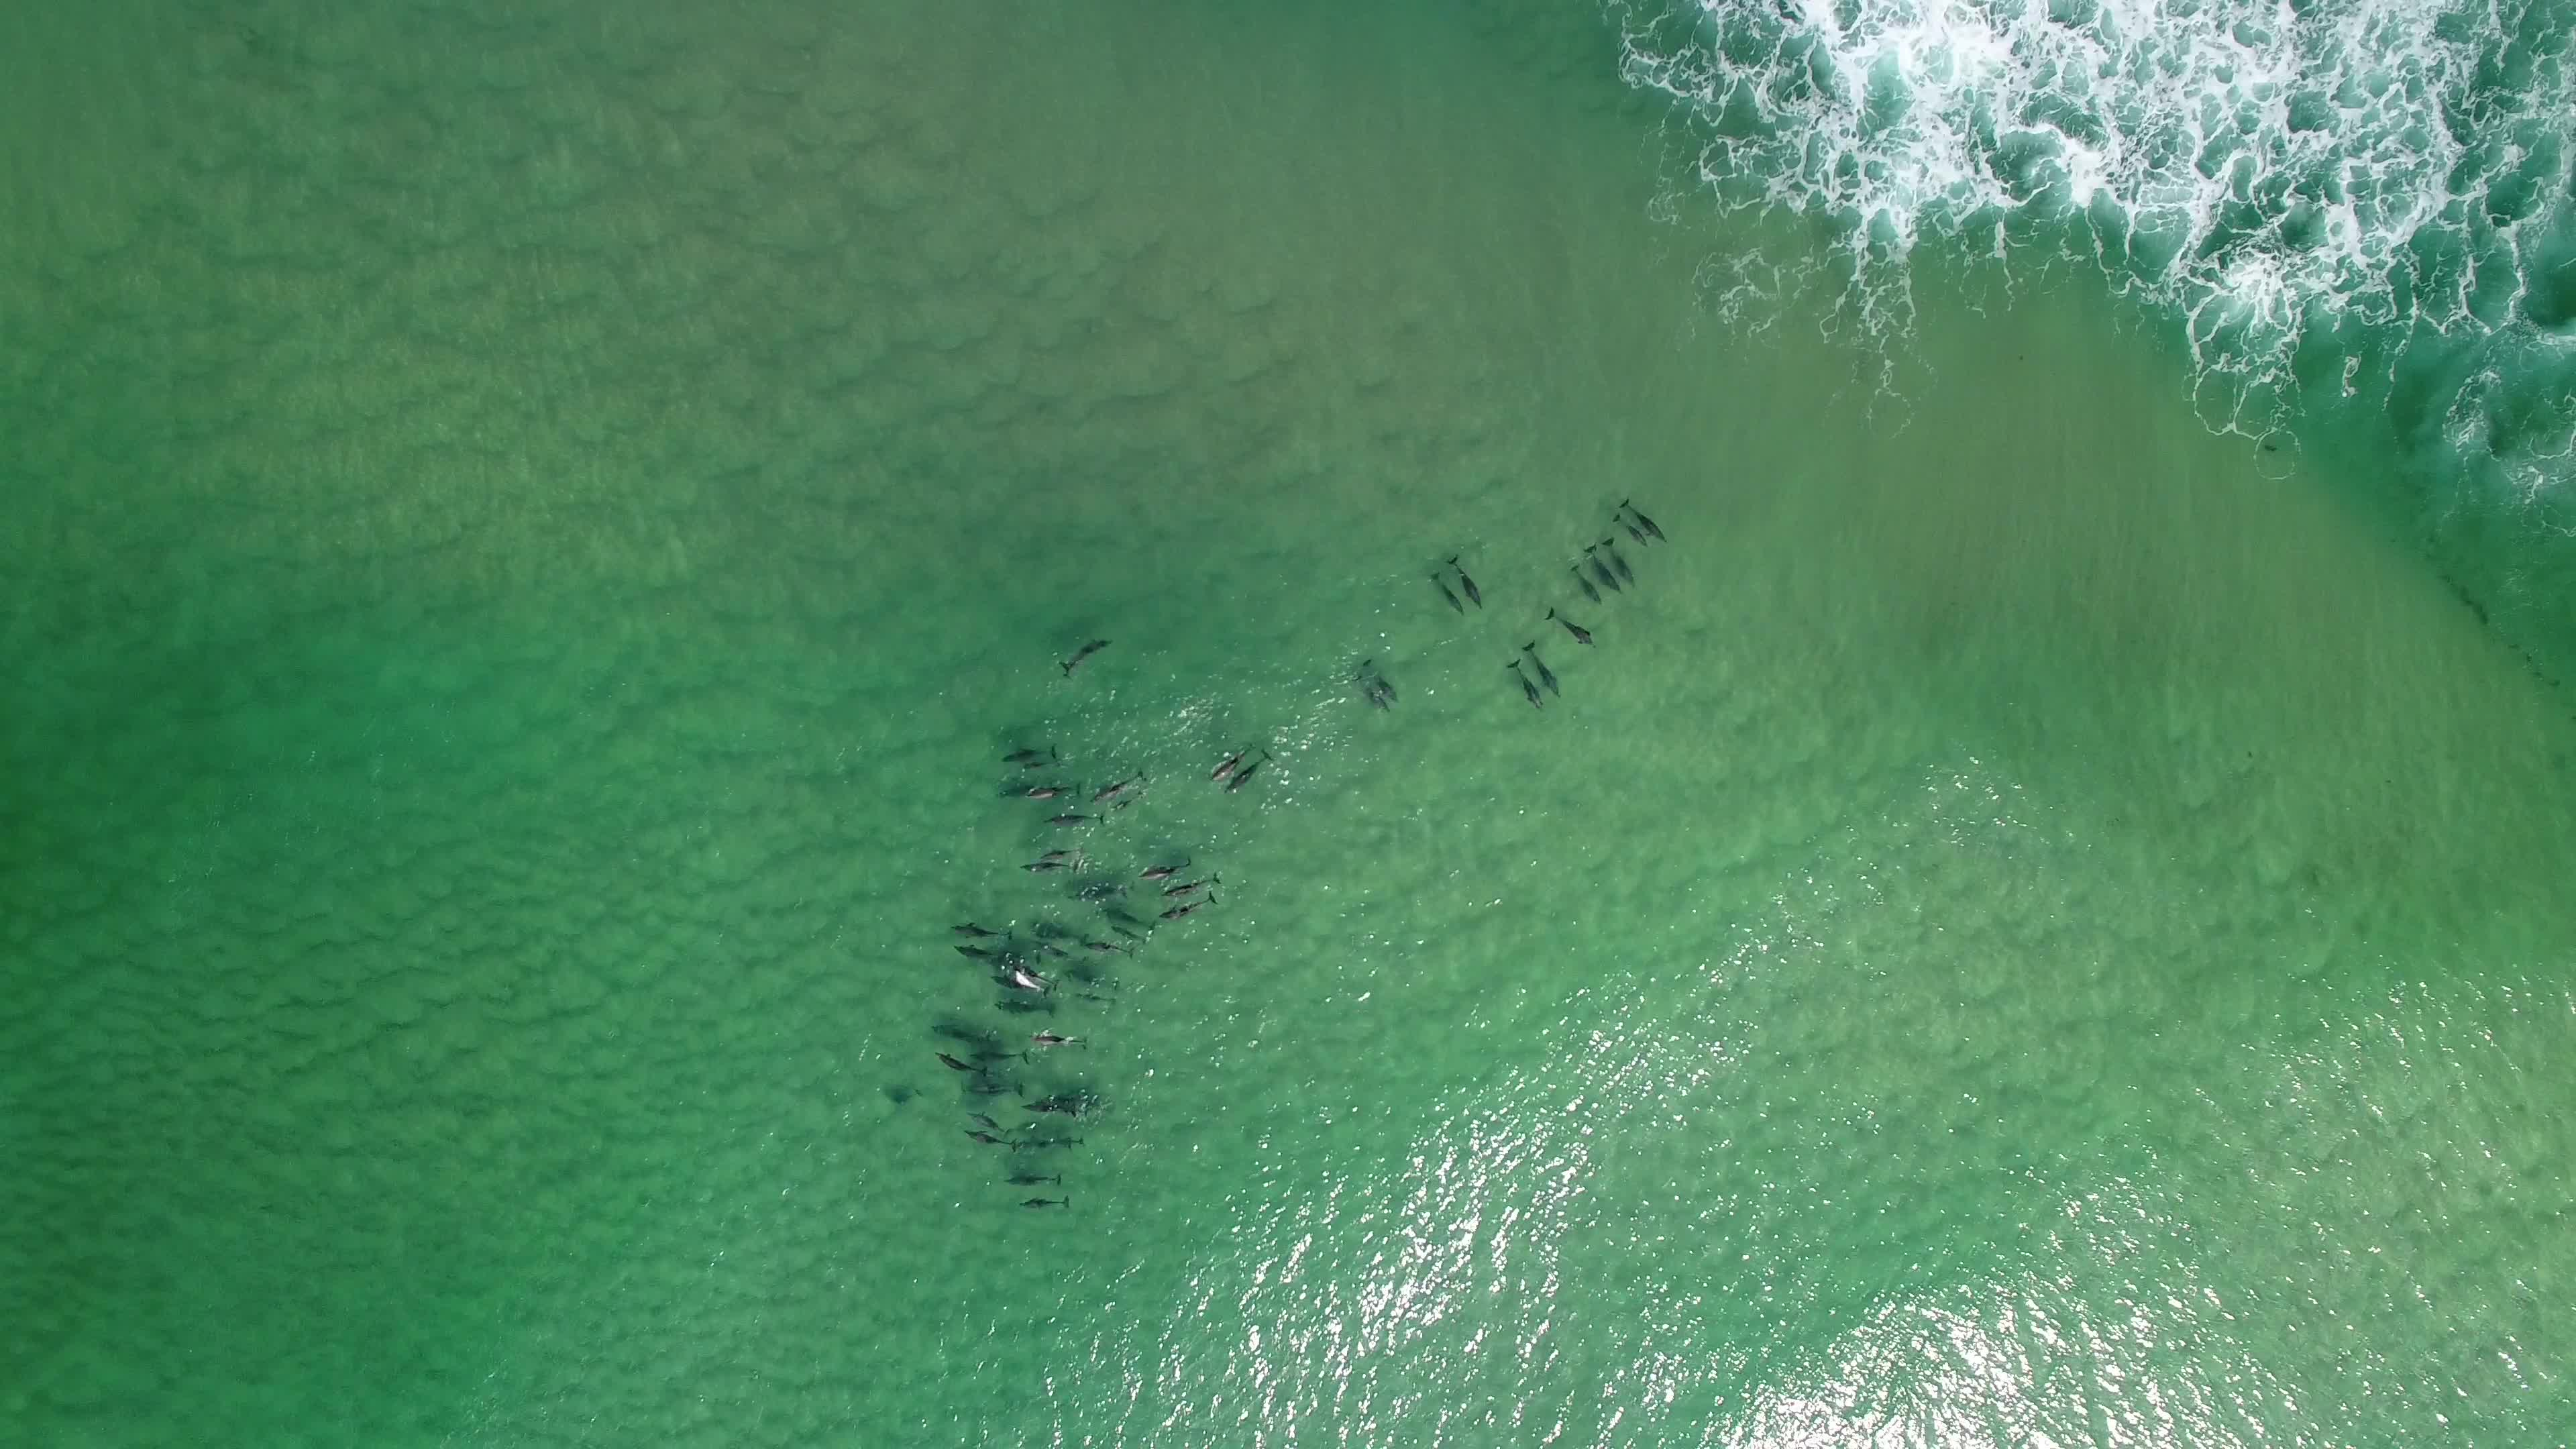dolphin: (1049, 628, 1115, 683), (1539, 594, 1596, 653), (1499, 649, 1543, 724), (1350, 653, 1399, 717), (1619, 501, 1675, 556), (1088, 771, 1162, 810), (1157, 890, 1228, 929), (1421, 566, 1465, 628), (1442, 547, 1486, 609), (1019, 846, 1088, 885), (1522, 635, 1560, 701), (989, 741, 1069, 771), (1566, 563, 1605, 621), (959, 1123, 1026, 1157), (931, 1021, 1000, 1051), (1219, 757, 1274, 794), (1138, 849, 1200, 881), (961, 1102, 1016, 1138), (1040, 805, 1100, 837), (1003, 775, 1079, 800), (1028, 1030, 1097, 1056), (1612, 517, 1651, 563), (947, 916, 1014, 943), (987, 973, 1053, 1000), (938, 1049, 989, 1083), (1157, 874, 1226, 899), (1605, 534, 1635, 589), (1205, 738, 1249, 775), (1021, 1191, 1092, 1214), (1030, 1097, 1093, 1122), (966, 1077, 1030, 1102), (950, 939, 1003, 966), (1083, 936, 1136, 962), (973, 1047, 1033, 1070), (1108, 908, 1155, 936), (1010, 1168, 1074, 1189), (1589, 554, 1615, 593), (1079, 881, 1127, 902)
